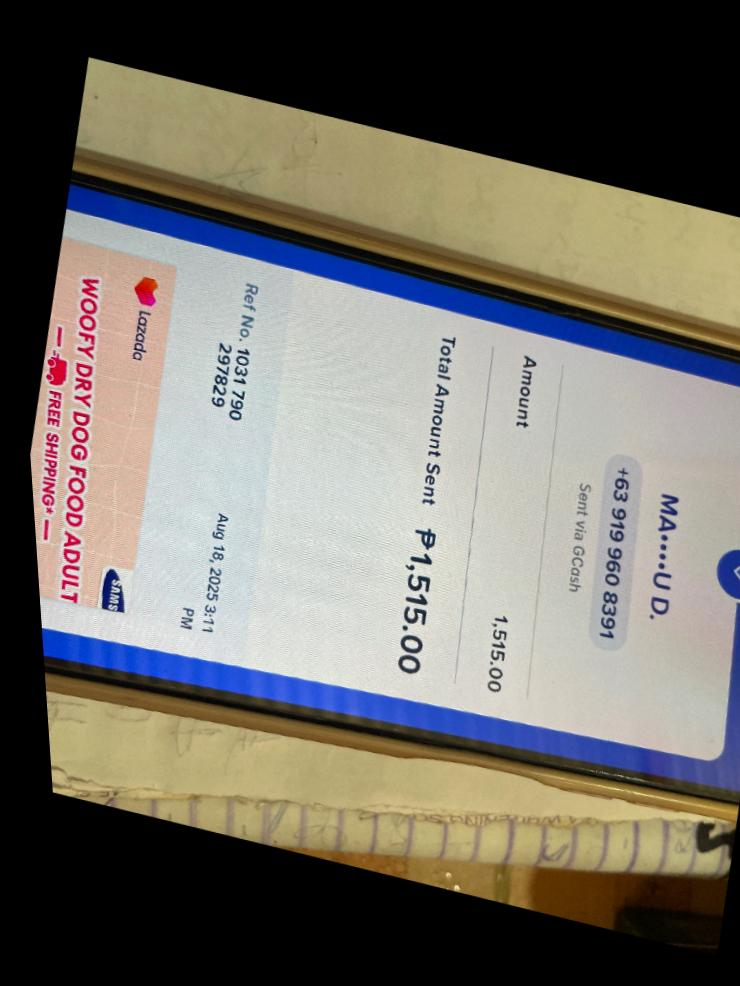Receipt: (30, 186, 740, 787)
